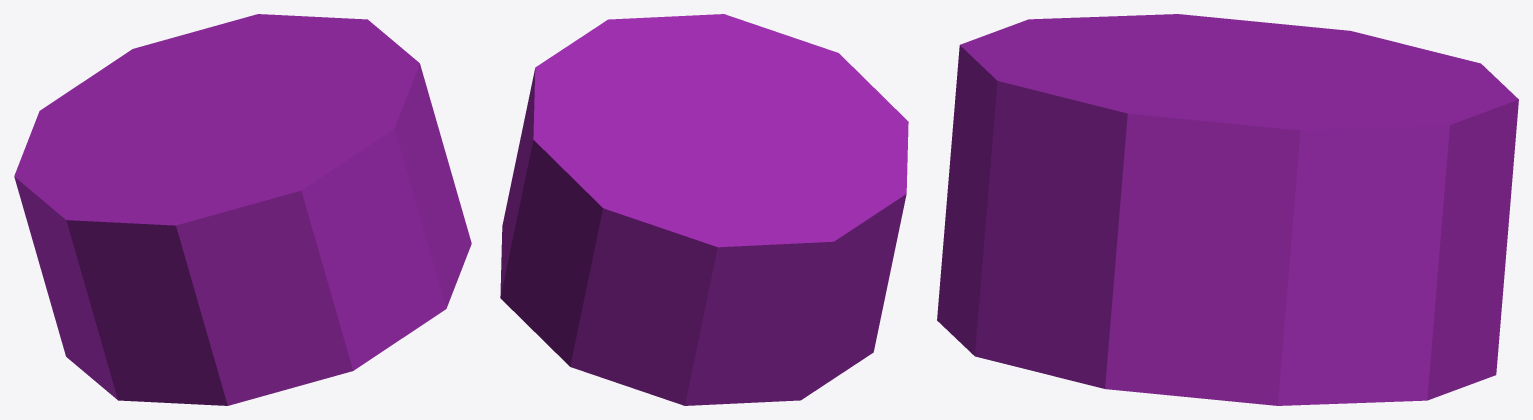
File: group465537640_lev3.002.glb
3 renders of one model, left to right at view 1: azimuth 30°, elevation 25°; view 2: azimuth 150°, elevation 25°; view 3: azimuth 270°, elevation 25°, orthographic. The views are drawn at different scales.
Visible parts, largest first — view 1: group465537640_lev3.002; view 2: group465537640_lev3.002; view 3: group465537640_lev3.002.
Boxes of the visible parts, <box> form: group465537640_lev3.002: <box>14,14,471,405</box>; group465537640_lev3.002: <box>500,14,908,405</box>; group465537640_lev3.002: <box>937,14,1518,405</box>.
Bounding box in the file's own units: 0.5884 × 0.4034 × 0.5674.
